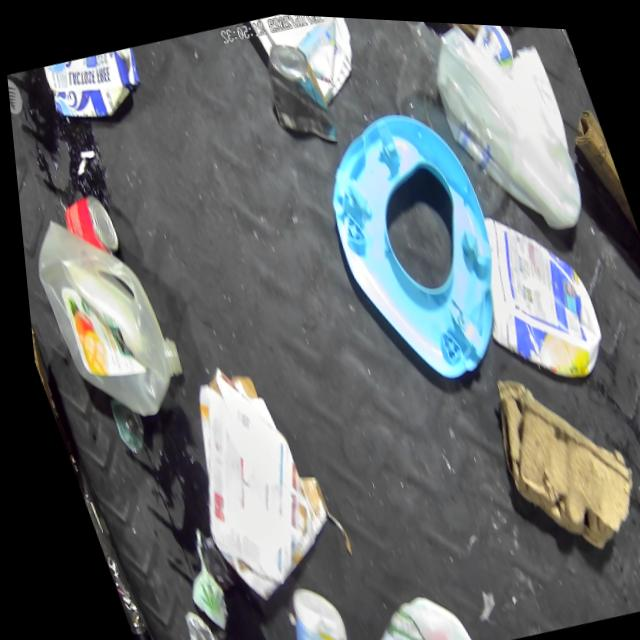can: (250, 36, 340, 152), (51, 188, 122, 268)
milk_jug: (15, 195, 193, 436), (411, 17, 594, 249), (339, 572, 474, 640)
